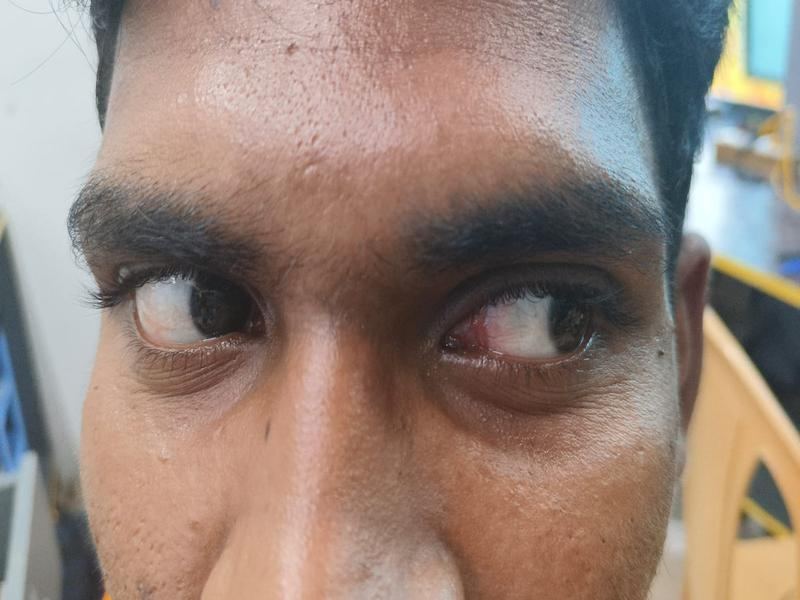EYE LEFT: (464, 283, 602, 362), (128, 270, 248, 349)
